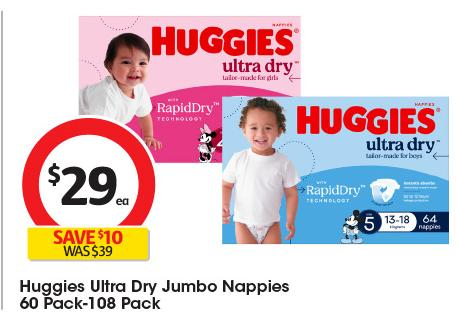description_block: (13, 270, 295, 316)
price_main: (10, 136, 164, 226)
product_image_block: (130, 12, 457, 249)
promo_text_block: (20, 224, 155, 264)
